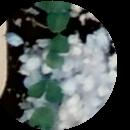Basil: (44, 37, 72, 74), (46, 2, 70, 33), (31, 82, 60, 104), (31, 109, 55, 130)
